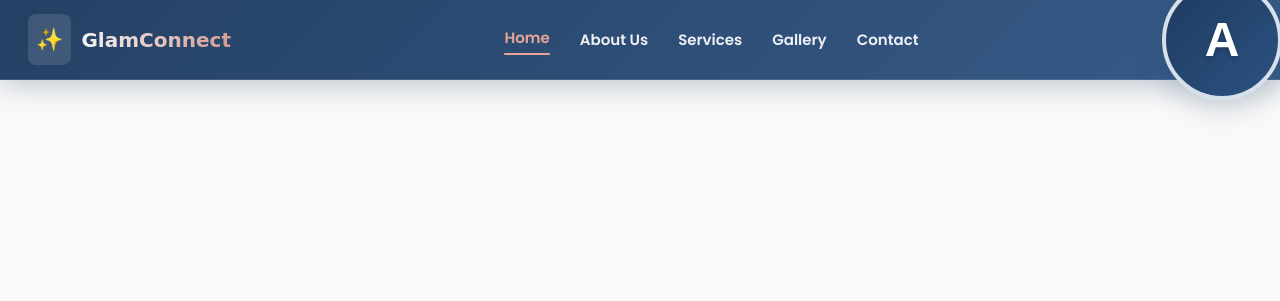
it: Navbar › shows Dashboard link for admin user
The image size is (1280, 301).
Click the button "A".
click(1222, 40)  # box [1192,17,1252,62]
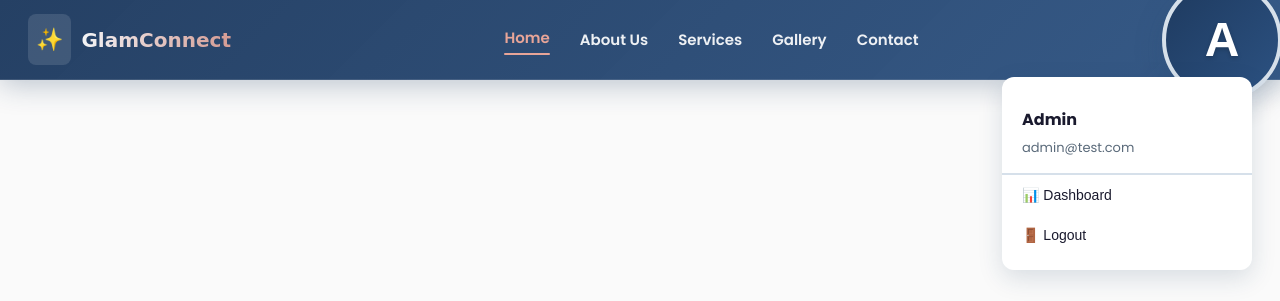
Now the button "📊 Dashboard" is shown, box [1002,176,1252,216]
